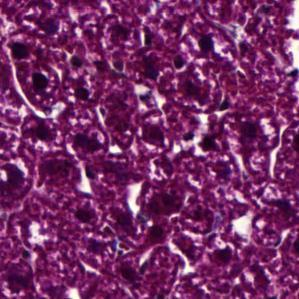inflammation: (62, 122, 109, 161), (166, 229, 208, 266), (131, 83, 169, 118), (190, 128, 223, 162), (148, 150, 176, 184), (190, 31, 220, 56)
